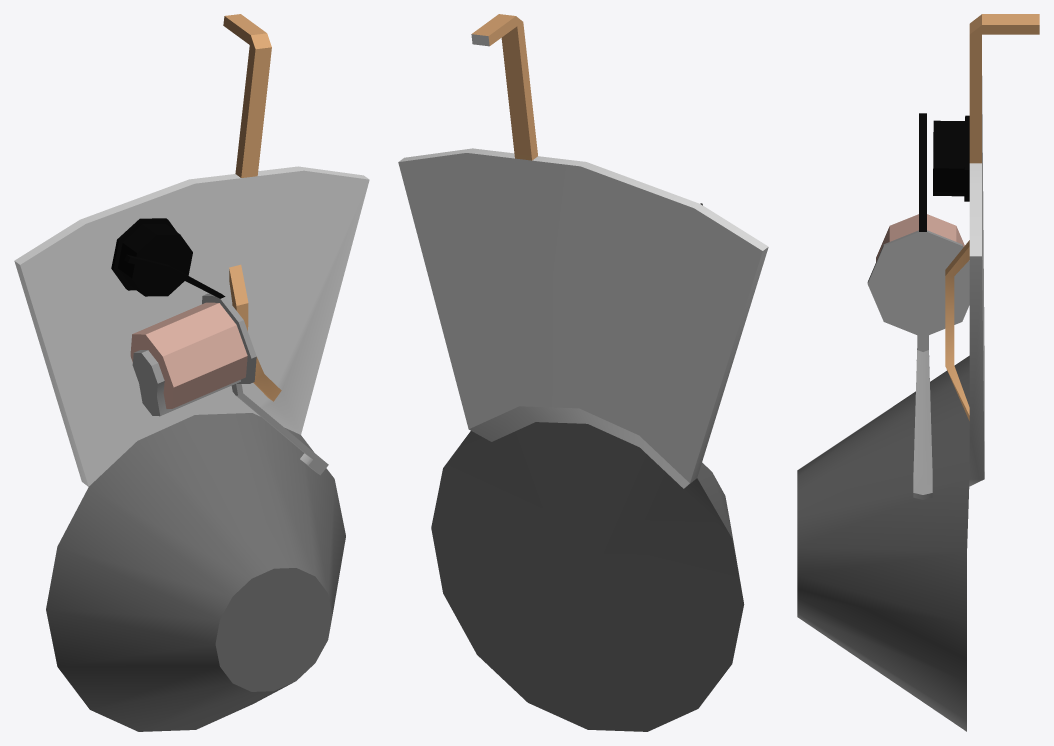
The model's file is zvonek.fbx.
3 renders of one model, left to right at view 1: azimuth 30°, elevation 25°; view 2: azimuth 150°, elevation 25°; view 3: azimuth 270°, elevation 25°, orthographic. The views are drawn at different scales.
Visible parts, largest first — view 1: Cone; view 2: Cone; view 3: Cone.
Part boxes in pixels (x1,y1,x2,y2): Cone: (14, 14, 369, 731); Cone: (398, 14, 768, 731); Cone: (797, 14, 1039, 731).
Bounding box in the file's own units: 13.98 × 25.77 × 7.71.
